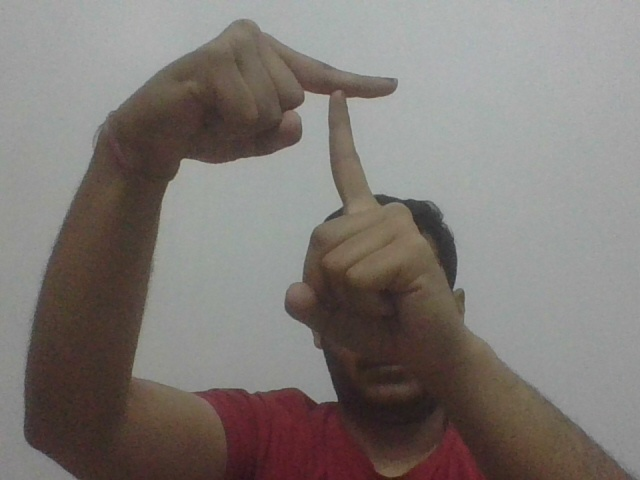T: (307, 49, 404, 193)
